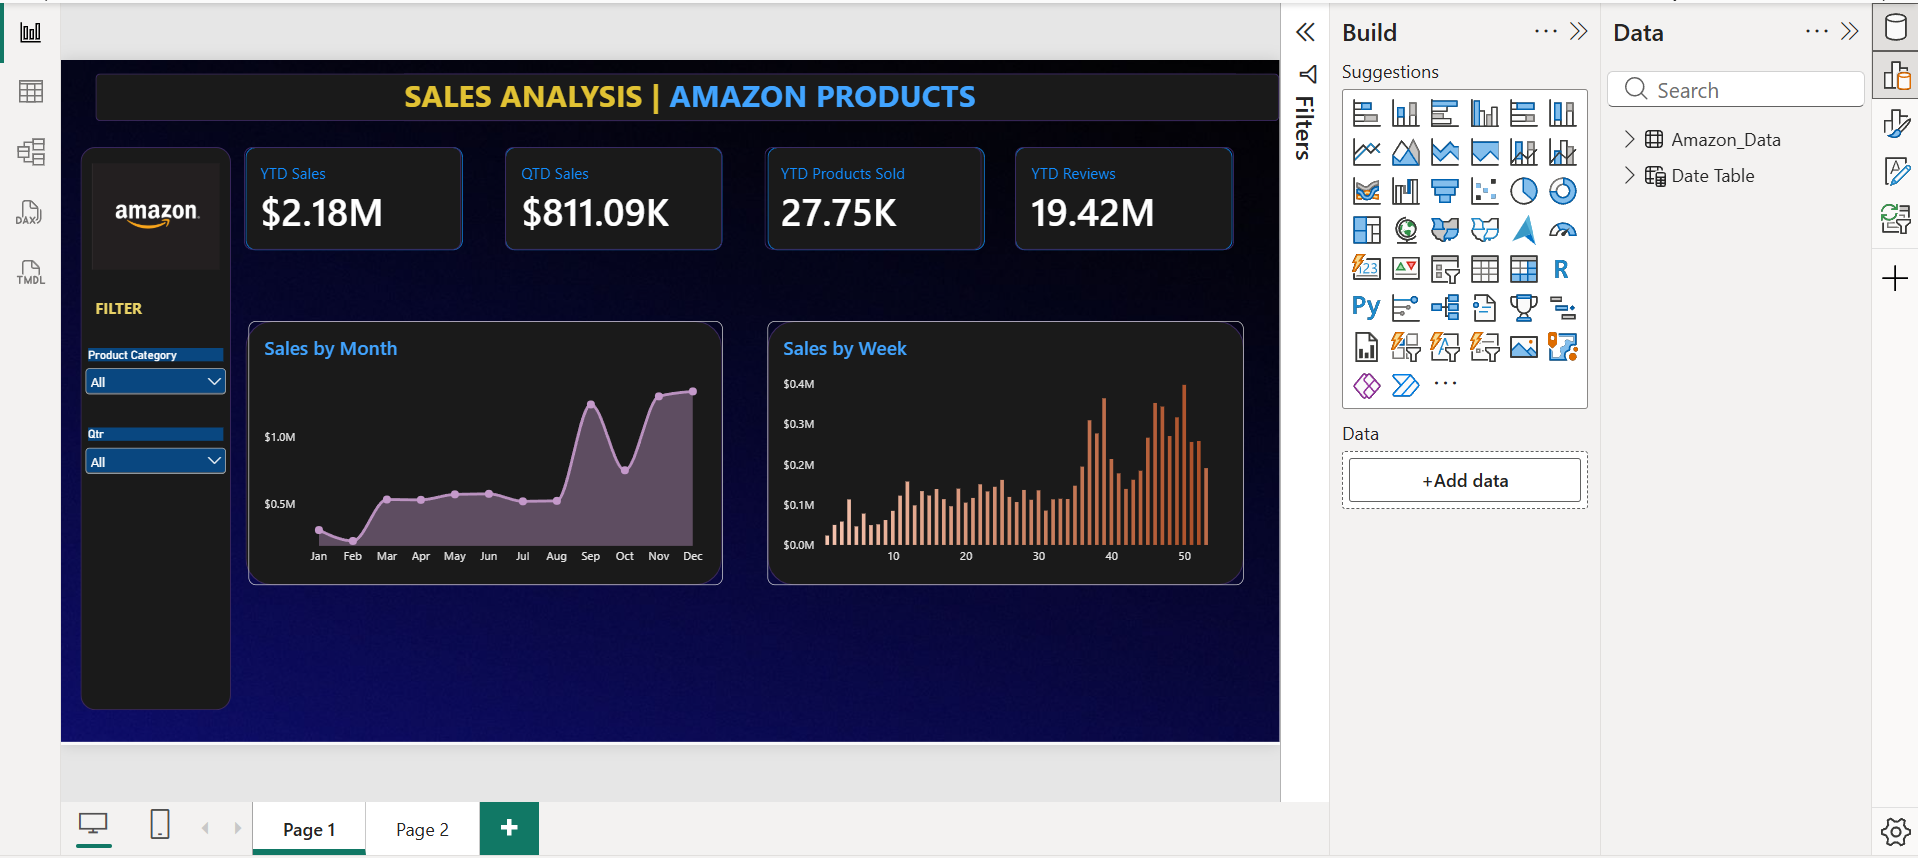

The page's visual inventory and layout, read from the dashboard file:
{"tool":"powerbi","page":{"name":"Page 1","canvas":[1280,720],"ordinal":0},"visuals":[{"type":"shape","box":[741.3,273.4,500.3,277.5],"z":0},{"type":"shape","box":[741.3,91.1,228.5,108.6],"z":1000},{"type":"shape","box":[194.4,91.1,228.5,108.6],"z":2000},{"type":"shape","box":[36.5,14.2,1243,50],"z":3000},{"type":"textbox","box":[360.5,14.2,640,77],"z":4000},{"type":"shape","box":[20.3,91.1,158,591.4],"z":5000},{"type":"cardVisual","fields":{"Data":["Amazon_Data.YTD Sales"]},"box":[192.4,91.1,228.5,108.6],"z":6000},{"type":"cardVisual","fields":{"Data":["Amazon_Data.YTD Products Sold"]},"box":[739.2,91.1,228.5,108.6],"z":7000},{"type":"shape","box":[465.8,91.1,228.5,108.6],"z":8000},{"type":"cardVisual","fields":{"Data":["Amazon_Data.QTD Sales"]},"box":[465.8,91.1,228.5,108.6],"z":9000},{"type":"shape","box":[1002.5,91.1,228.5,108.6],"z":10000},{"type":"cardVisual","fields":{"Data":["Amazon_Data.YTD Reviews"]},"box":[1002.5,91.1,230,108.6],"z":11000},{"type":"shape","box":[194.4,273.4,500.3,277.5],"z":12000},{"type":"areaChart","title":"Sales by Month","fields":{"Category":["Date Table.Month Name"],"Y":["Sum(Amazon_Data.Price(Dollar))"]},"box":[196.5,273.4,498.2,277.5],"z":13000},{"type":"columnChart","title":"Sales by Week","fields":{"Category":["Date Table.Week"],"Y":["Sum(Amazon_Data.Price(Dollar))"]},"box":[741.3,273.4,500.3,277.5],"z":14000},{"type":"slicer","fields":{"Values":["Amazon_Data.Product Category"]},"box":[20.3,302.8,158,66.8],"z":15000},{"type":"image","box":[20.3,108.1,158,111.4],"z":16000},{"type":"textbox","box":[36.5,248.7,89.2,40.6],"z":17000},{"type":"slicer","fields":{"Values":["Date Table.Qtr"]},"box":[20.3,386.6,158,68.9],"z":18000}]}

Visuals, with their boxes on the page's 1280x720 design canvas (x1, y1, x2, y2). These are canvas units, not pixel positions in the 1918x858 screenshot, which may show the page scaled, cropped or inside an application window:
shape: bbox=[741, 273, 1242, 551]
shape: bbox=[741, 91, 970, 200]
shape: bbox=[194, 91, 423, 200]
shape: bbox=[36, 14, 1280, 64]
textbox: bbox=[360, 14, 1000, 91]
shape: bbox=[20, 91, 178, 682]
cardVisual - Amazon_Data.YTD Sales: bbox=[192, 91, 421, 200]
cardVisual - Amazon_Data.YTD Products Sold: bbox=[739, 91, 968, 200]
shape: bbox=[466, 91, 694, 200]
cardVisual - Amazon_Data.QTD Sales: bbox=[466, 91, 694, 200]
shape: bbox=[1002, 91, 1231, 200]
cardVisual - Amazon_Data.YTD Reviews: bbox=[1002, 91, 1232, 200]
shape: bbox=[194, 273, 695, 551]
"Sales by Month" areaChart: bbox=[196, 273, 695, 551]
"Sales by Week" columnChart: bbox=[741, 273, 1242, 551]
slicer - Amazon_Data.Product Category: bbox=[20, 303, 178, 370]
image: bbox=[20, 108, 178, 220]
textbox: bbox=[36, 249, 126, 289]
slicer - Date Table.Qtr: bbox=[20, 387, 178, 456]
